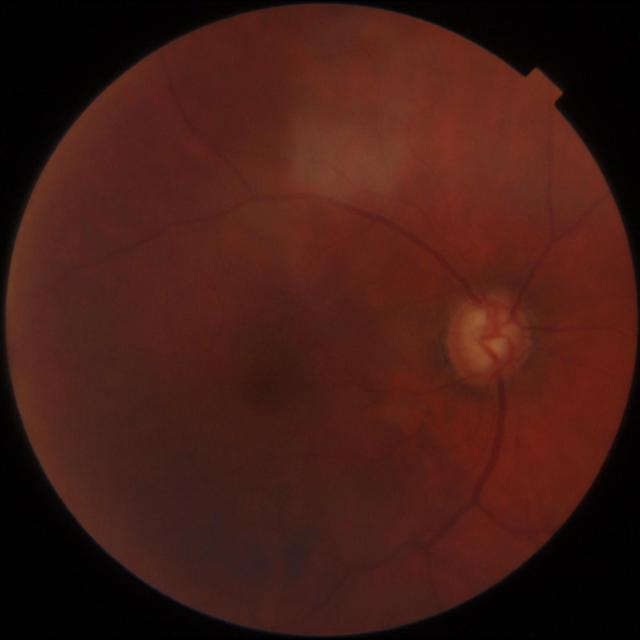OC: (463, 310, 517, 363)
OD: (447, 295, 533, 388)
